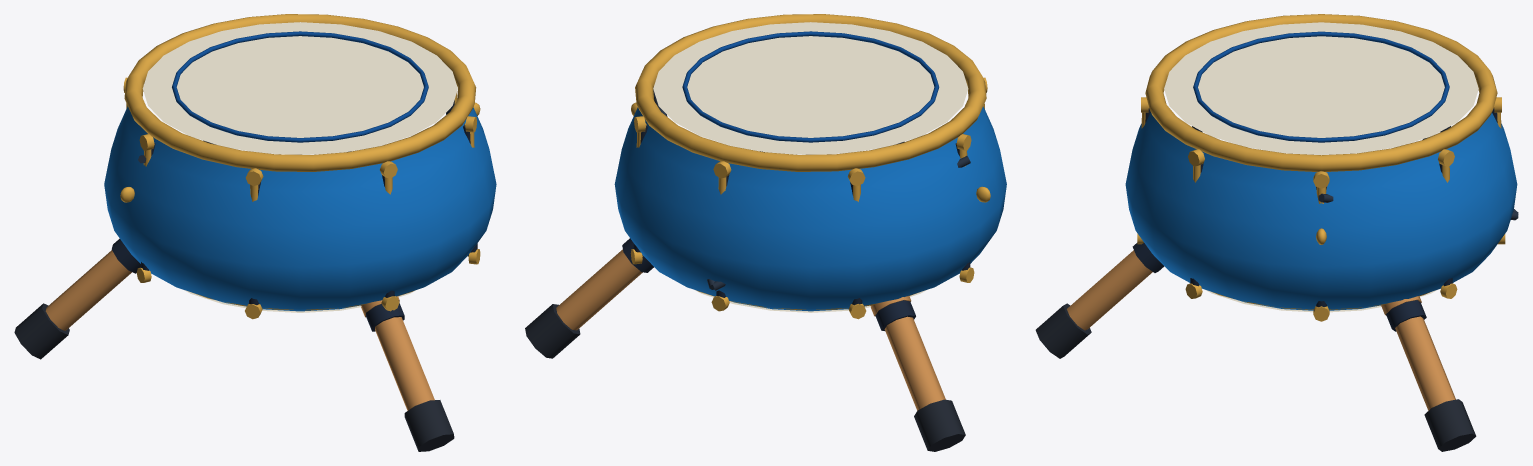
Rendered from asset.glb.
3 views of the same model, side by side, from view 1: azimuth 30°, elevation 25°; view 2: azimuth 150°, elevation 25°; view 3: azimuth 270°, elevation 25° (orthographic).
Visible parts, largest first — view 1: Blue_DrumShell, TopDrumhead, LowPoly_SnareDrum; view 2: Blue_DrumShell, TopDrumhead, LowPoly_SnareDrum; view 3: Blue_DrumShell, TopDrumhead, LowPoly_SnareDrum.
Part boxes in pixels (box(x1,y1,x2,y2)): Blue_DrumShell: box(104, 106, 496, 311); TopDrumhead: box(142, 22, 457, 154); LowPoly_SnareDrum: box(14, 14, 480, 451); Blue_DrumShell: box(614, 106, 1006, 311); TopDrumhead: box(653, 22, 968, 154); LowPoly_SnareDrum: box(525, 14, 990, 451); Blue_DrumShell: box(1125, 113, 1517, 310); TopDrumhead: box(1164, 22, 1478, 155); LowPoly_SnareDrum: box(1035, 14, 1518, 451).
Bounding box in the file's own units: 2.86 × 1.71 × 2.76.
